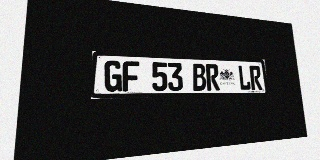3: (167, 63, 183, 91)
5: (152, 62, 168, 91)
B: (192, 63, 207, 91)
F: (123, 61, 139, 92)
G: (104, 60, 122, 92)
L: (238, 65, 251, 90)
R: (205, 64, 220, 91), (249, 65, 262, 90)
